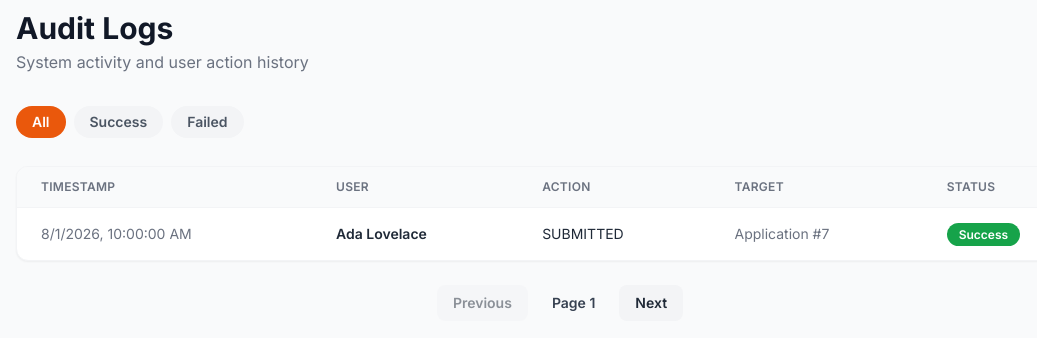
Test: AuditLogs — pagination › disables Next on the last page and fetches the next page otherwise
Expected: the text "Ada Lovelace" is shown, 312,208 -> 518,260
Expected: the button "Previous" is disabled, 437,285 -> 528,321
Click the button "Next": (651, 303) 619,285 -> 683,321
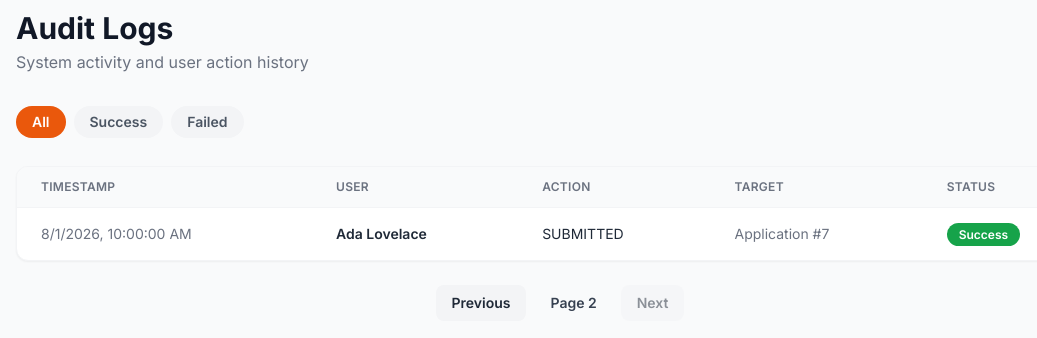
Expected: the text "Page 2" is shown, 550,294 -> 597,311
Expected: the button "Next" is disabled, 621,285 -> 684,321
